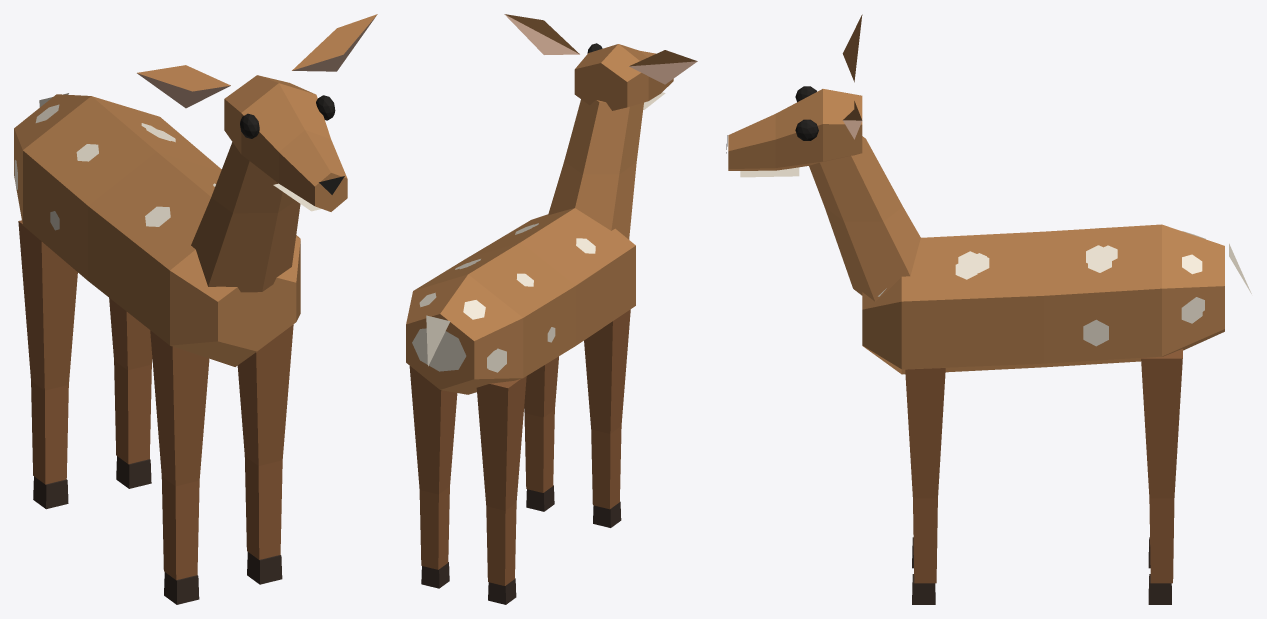
Rendered from deer.glb.
3 views of the same model, side by side, from view 1: azimuth 30°, elevation 25°; view 2: azimuth 150°, elevation 25°; view 3: azimuth 270°, elevation 25° (orthographic). The views are drawn at different scales.
Parts seen in each view (by area): view 1: body, leg_BL, leg_FL, neck, head, leg_FR, leg_BR, ear_L, ear_R; view 2: body, neck, leg_BL, leg_BR, leg_FL, leg_FR, head, ear_R, ear_L, tail; view 3: body, neck, head, leg_BR, leg_FR.
Part boxes in pixels (x1=…): body: x1=14, y1=94, x2=300, y2=366; leg_BL: x1=18, y1=220, x2=77, y2=509; leg_FL: x1=150, y1=330, x2=209, y2=604; neck: x1=191, y1=142, x2=300, y2=292; head: x1=224, y1=75, x2=347, y2=211; leg_FR: x1=237, y1=324, x2=293, y2=584; leg_BR: x1=109, y1=298, x2=152, y2=488; ear_L: x1=137, y1=65, x2=230, y2=108; ear_R: x1=292, y1=14, x2=377, y2=71; body: x1=406, y1=208, x2=635, y2=394; neck: x1=548, y1=99, x2=643, y2=239; leg_BL: x1=476, y1=376, x2=526, y2=604; leg_BR: x1=409, y1=366, x2=457, y2=588; leg_FL: x1=584, y1=309, x2=630, y2=527; leg_FR: x1=524, y1=356, x2=558, y2=511; head: x1=574, y1=44, x2=673, y2=110; ear_R: x1=504, y1=14, x2=579, y2=54; ear_L: x1=629, y1=50, x2=697, y2=84; tail: x1=426, y1=315, x2=450, y2=366; body: x1=862, y1=224, x2=1224, y2=374; neck: x1=809, y1=136, x2=920, y2=301; head: x1=726, y1=89, x2=862, y2=177; leg_BR: x1=1141, y1=349, x2=1182, y2=604; leg_FR: x1=905, y1=368, x2=945, y2=604.
Size of the model in its own units: 0.064 by 0.144 by 0.1335.
